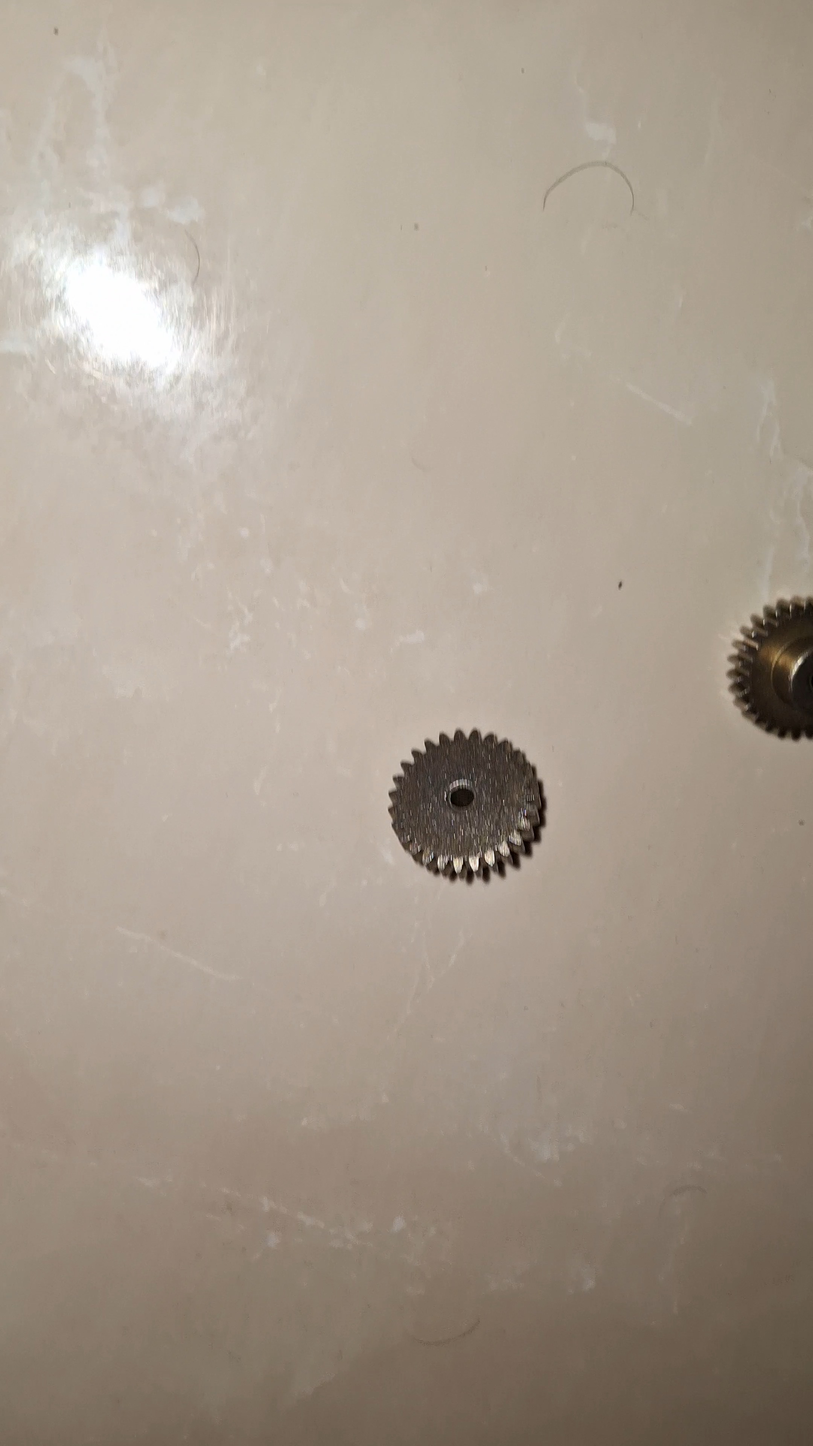spur gear: (390, 730, 541, 874), (728, 598, 813, 738)
